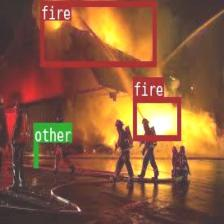fire: (40, 0, 156, 66), (133, 96, 180, 140)
